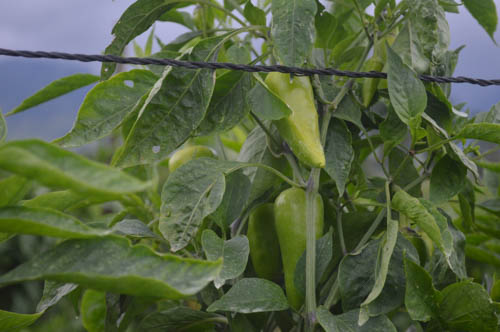ChiliPepper: (259, 65, 325, 169), (274, 188, 322, 311), (170, 147, 216, 219), (244, 205, 279, 282)
